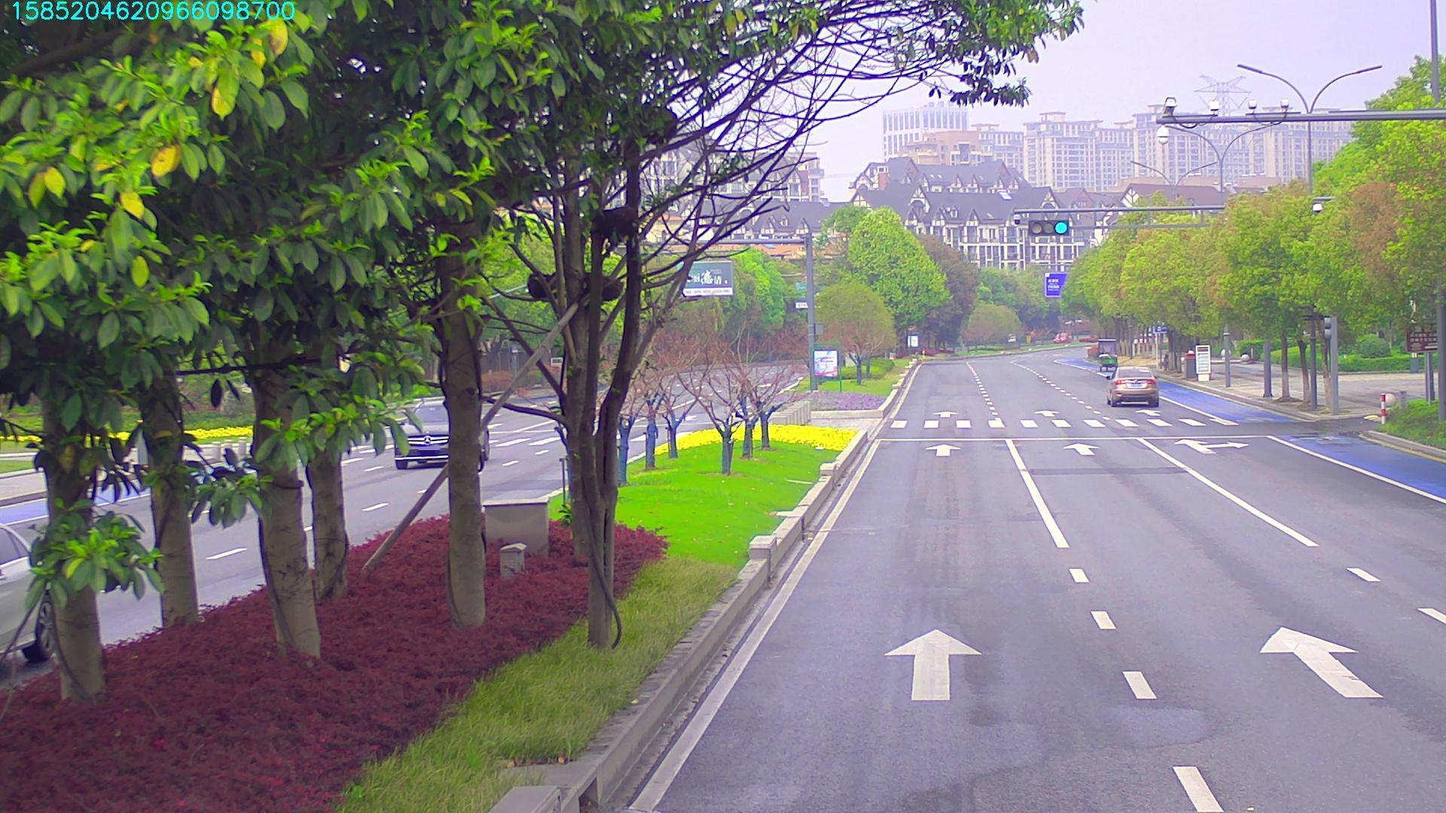green: (1032, 220, 1066, 233)
